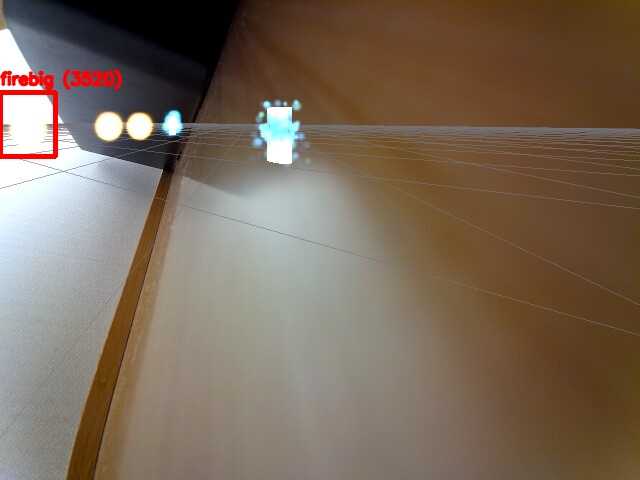firebig: (0, 92, 55, 156)
